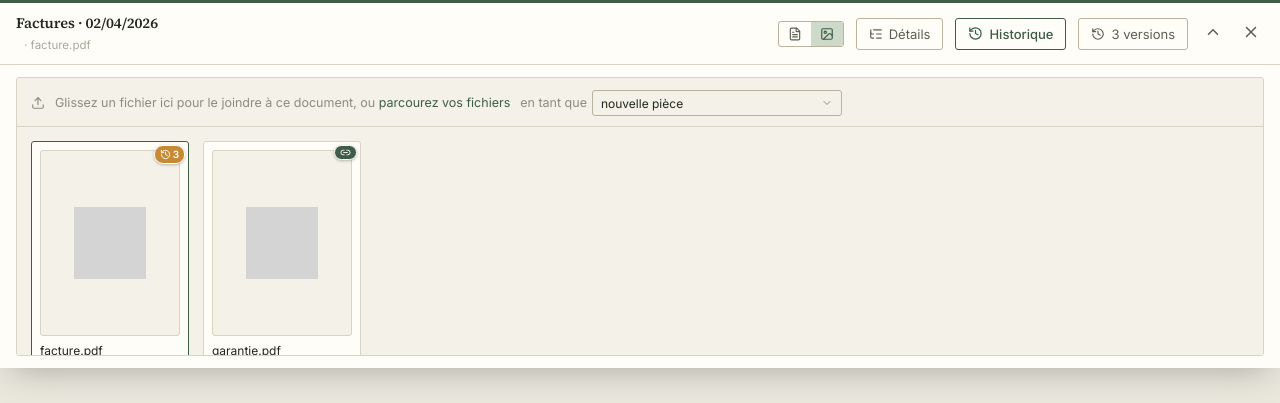
Test case: « Voir » et sa seconde façon (§22.74) › referme le menu quand on s'en va
The width and height of the screenshot is (1280, 403).
Click the text "garantie.pdf": (246, 350) 212,343 -> 281,358
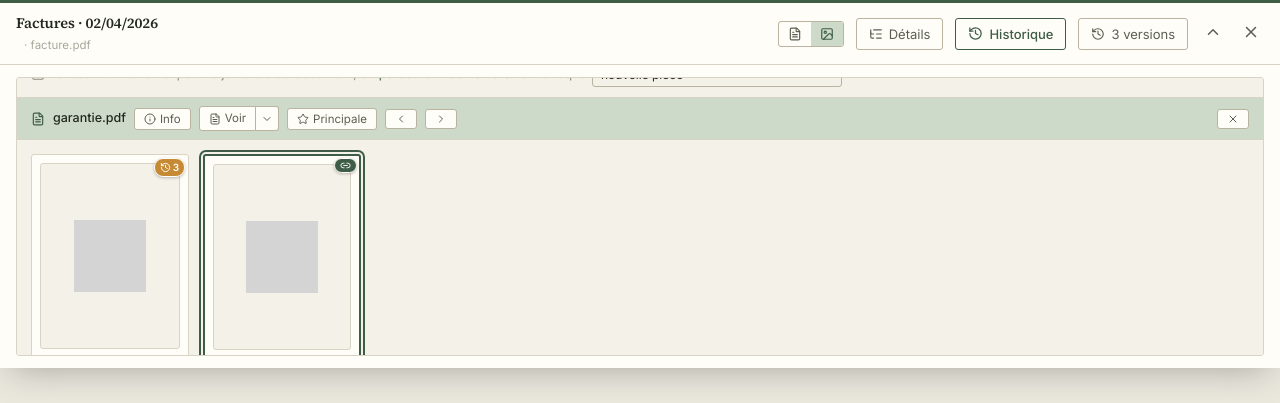
Click the button named "Autres façons d'ouvrir": (268, 119) 256,106 -> 279,131
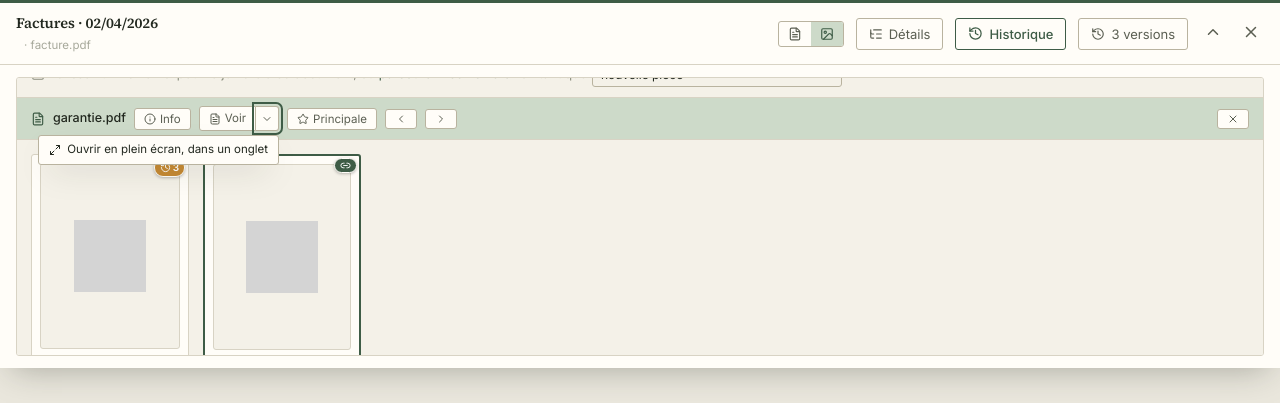
Check: the link "Ouvrir en plein écran, dans un onglet" is shown, box 38,135 -> 279,165
Press Escape
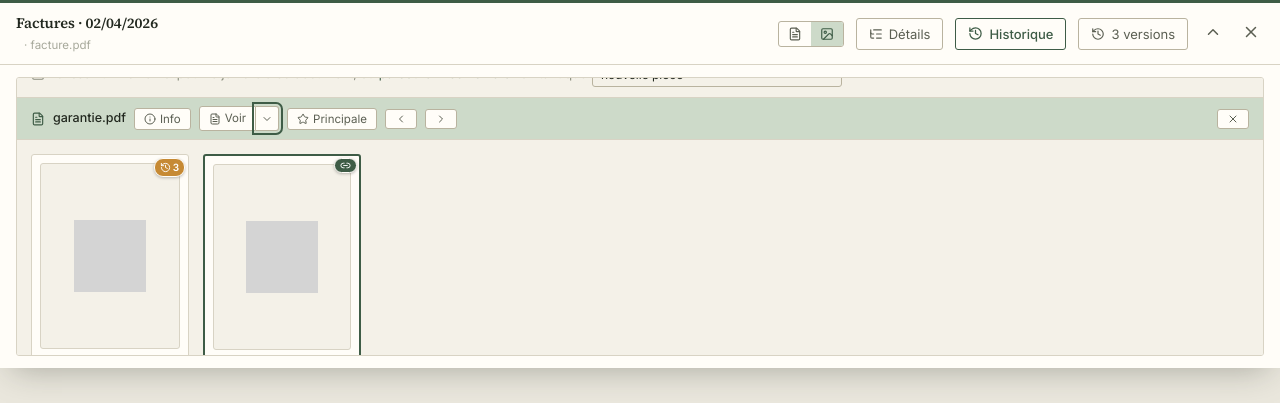
Check: the link "plein écran, dans un onglet" is gone
